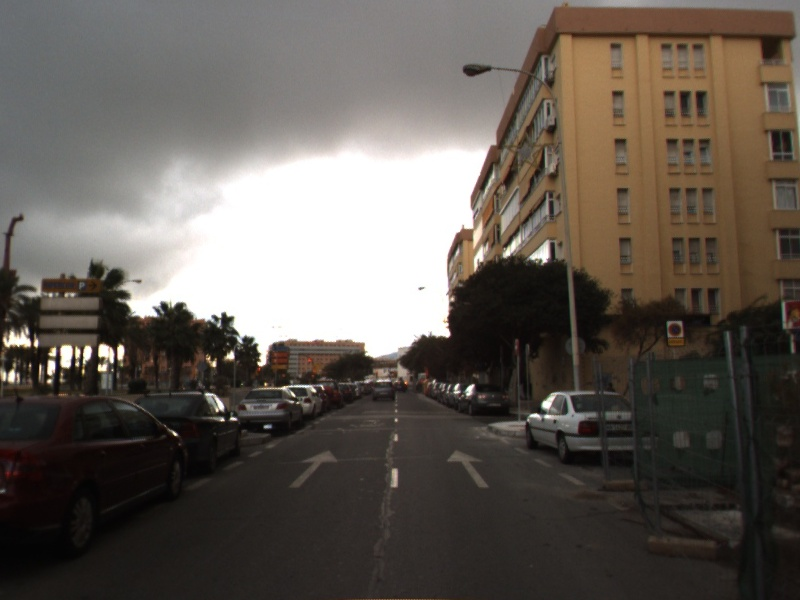STRAIGHT: (287, 449, 339, 489), (446, 448, 491, 489)
